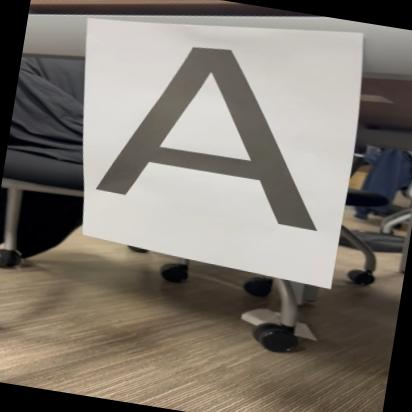seat: (94, 29, 360, 250)
